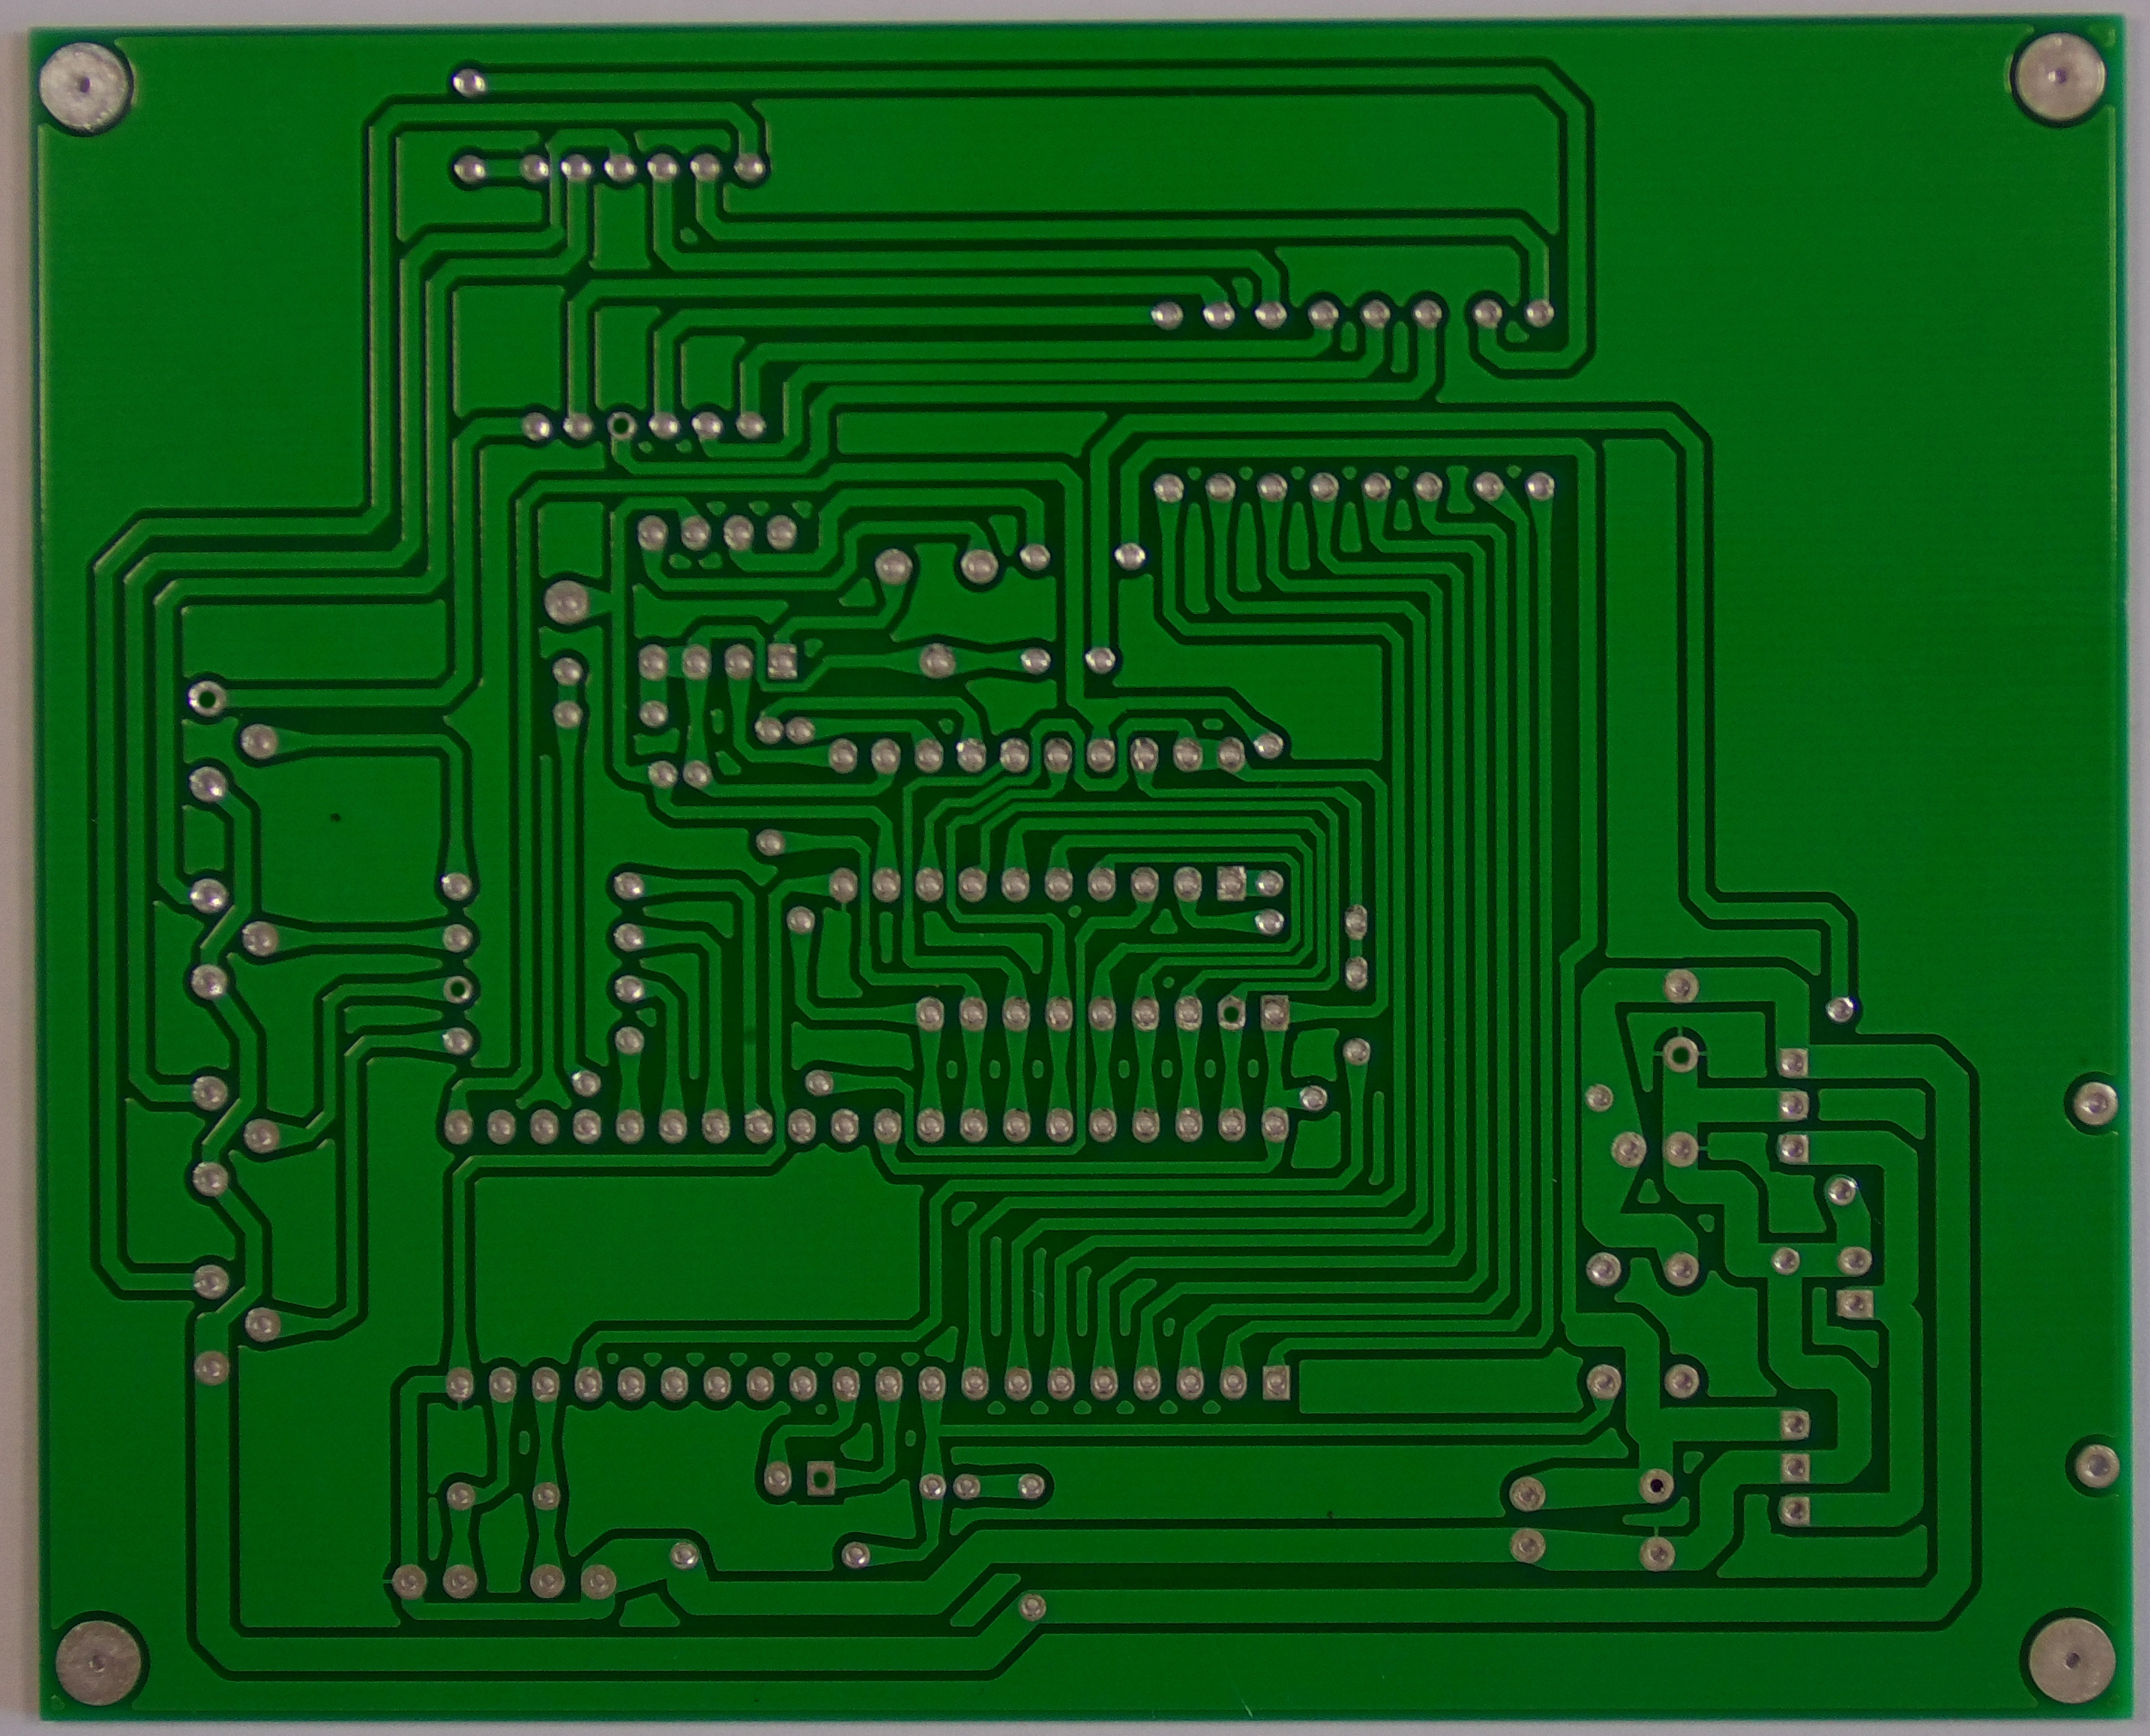missing_hole: (178, 672, 233, 720), (1659, 1031, 1712, 1079), (800, 1453, 849, 1503), (1214, 991, 1250, 1037), (441, 968, 478, 1011), (604, 406, 645, 442)
